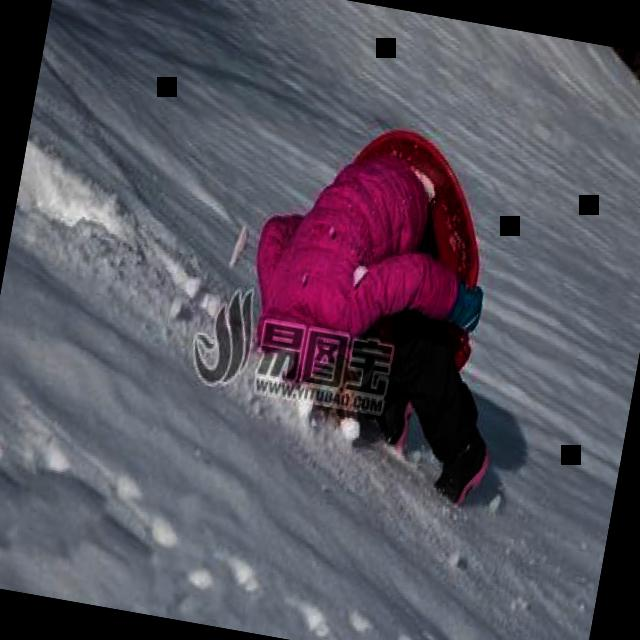Fall-Detected: (208, 94, 561, 533)
